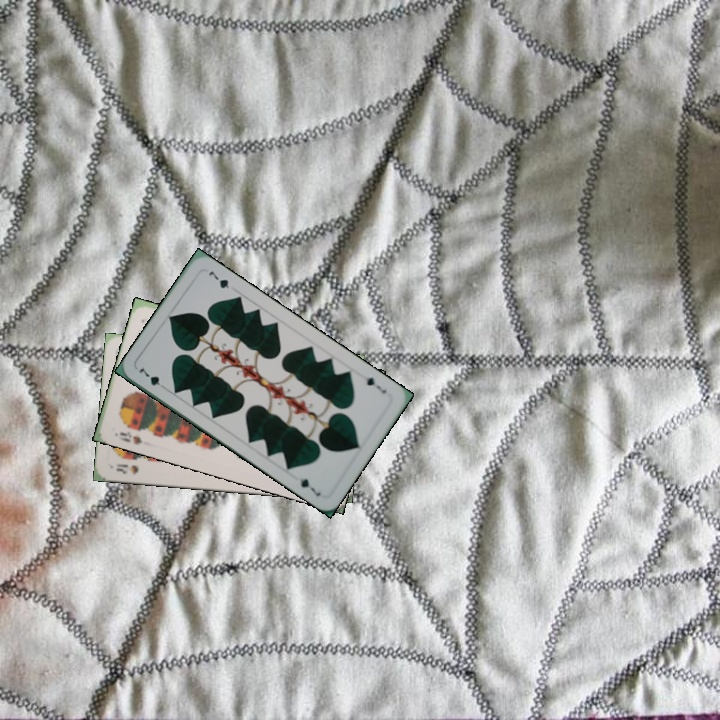G7: (135, 364, 170, 393), (359, 370, 389, 396)
S8: (116, 427, 144, 447), (112, 460, 141, 477)
